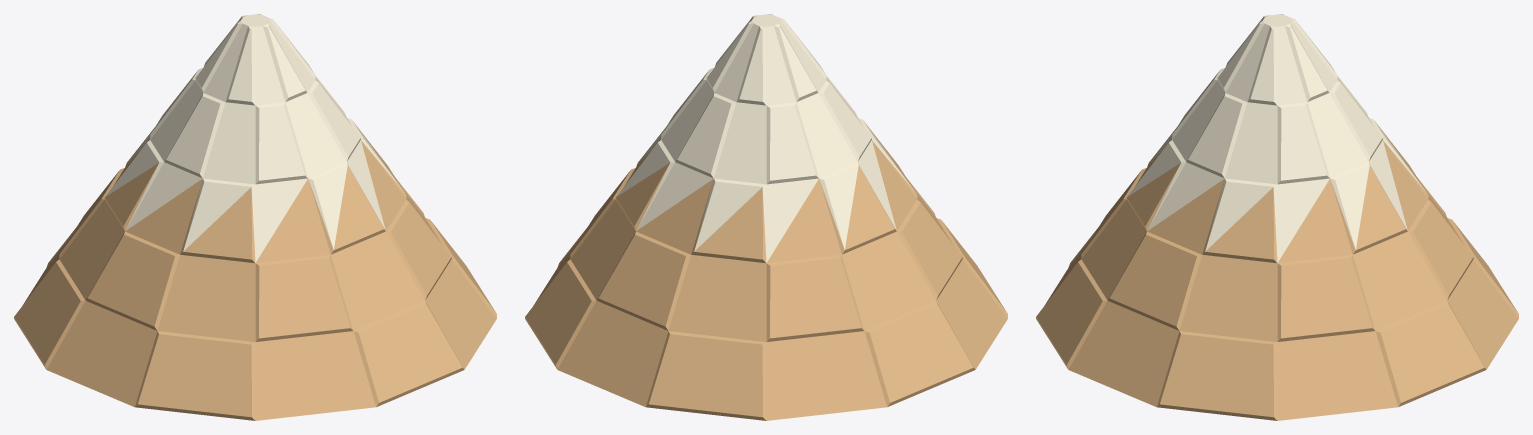
File: Cosmetic_IceCreamCone.glb
The picture shows the model from 3 angles, left to right: view 1: azimuth 30°, elevation 25°; view 2: azimuth 150°, elevation 25°; view 3: azimuth 270°, elevation 25°; orthographic projection.
Visible parts, largest first — view 1: IceCreamCone; view 2: IceCreamCone; view 3: IceCreamCone.
Part boxes in pixels (x1,y1,x2,y2): IceCreamCone: (14, 14, 496, 420); IceCreamCone: (525, 14, 1007, 420); IceCreamCone: (1036, 14, 1518, 420).
Size of the model in its own units: 1.32 by 0.9 by 1.32.
